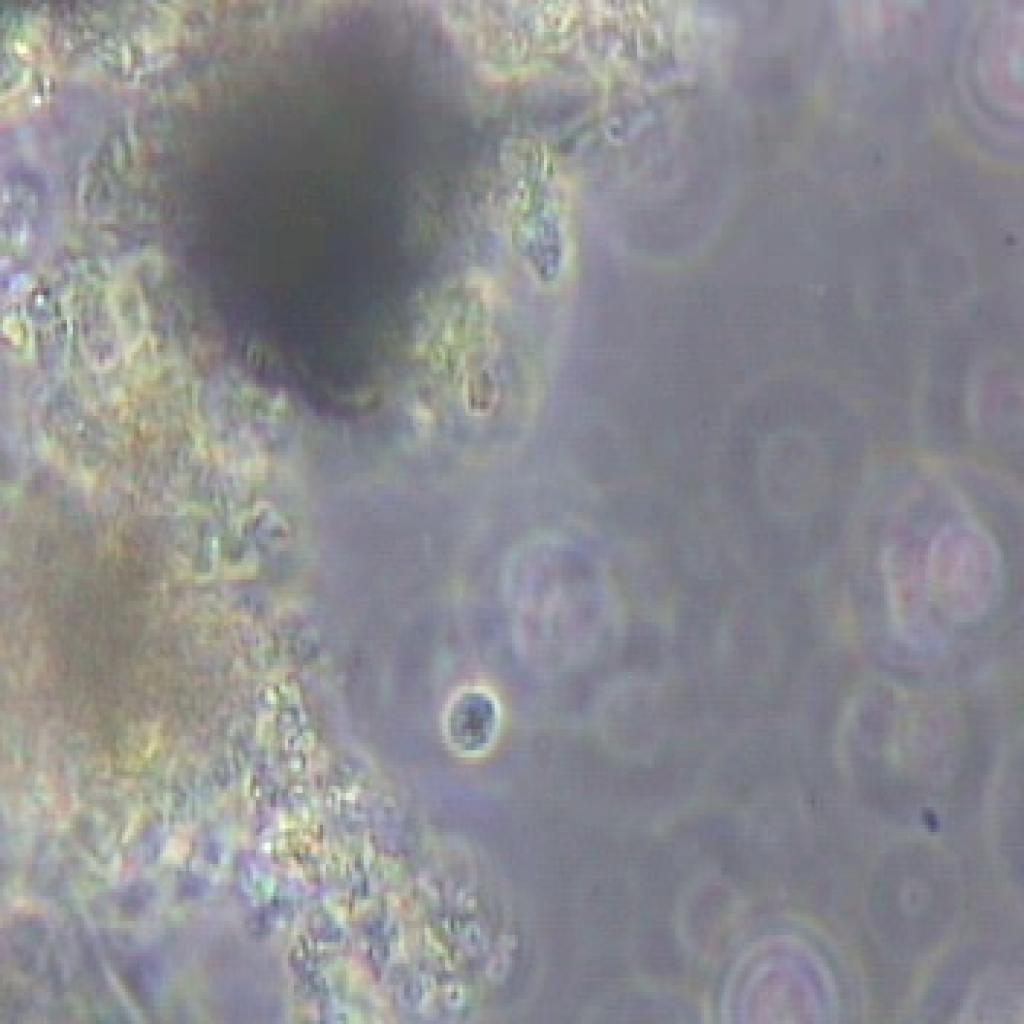Flagellates: (410, 670, 530, 780)
